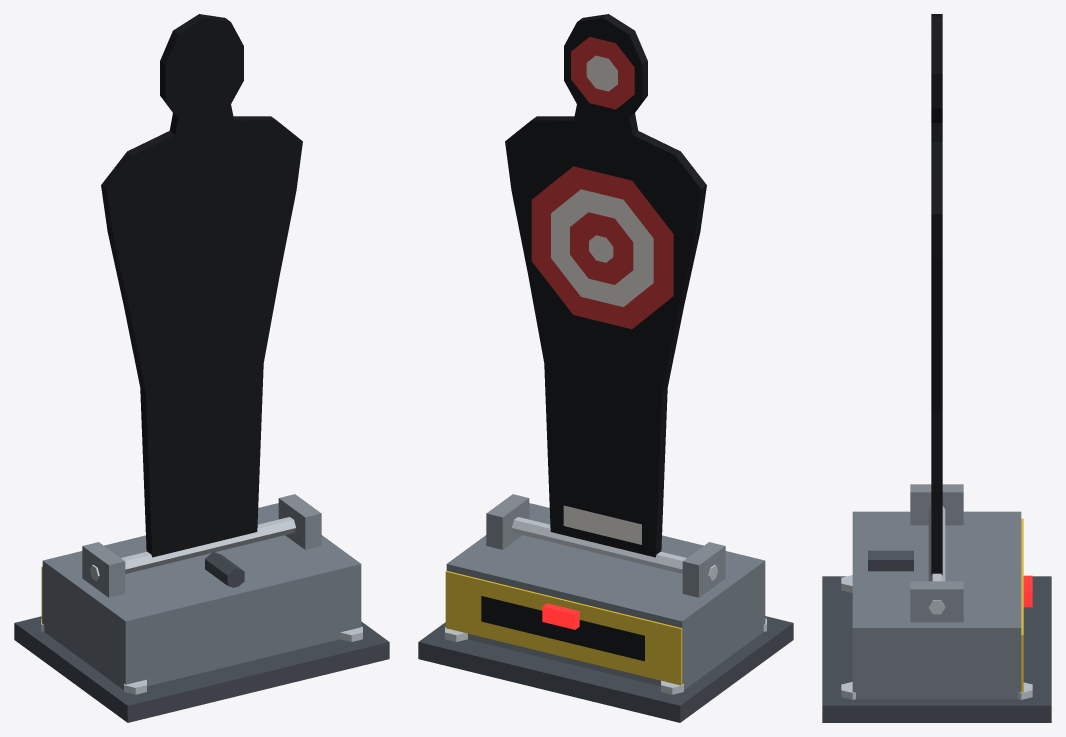
Rendered from range_target.glb.
3 renders of one model, left to right at view 1: azimuth 30°, elevation 25°; view 2: azimuth 150°, elevation 25°; view 3: azimuth 270°, elevation 25°, orthographic.
Visible parts, largest first — view 1: Plate, Body; view 2: Plate, Body; view 3: Body, Plate.
Part boxes in pixels (left/top/right/bottom): Plate: left=101, top=14, right=302, bottom=557; Body: left=14, top=494, right=389, bottom=722; Plate: left=505, top=14, right=706, bottom=557; Body: left=418, top=494, right=793, bottom=722; Body: left=822, top=484, right=1051, bottom=722; Plate: left=931, top=14, right=942, bottom=575.
Bounding box in the file's own units: 0.8 × 1.85 × 0.6.
